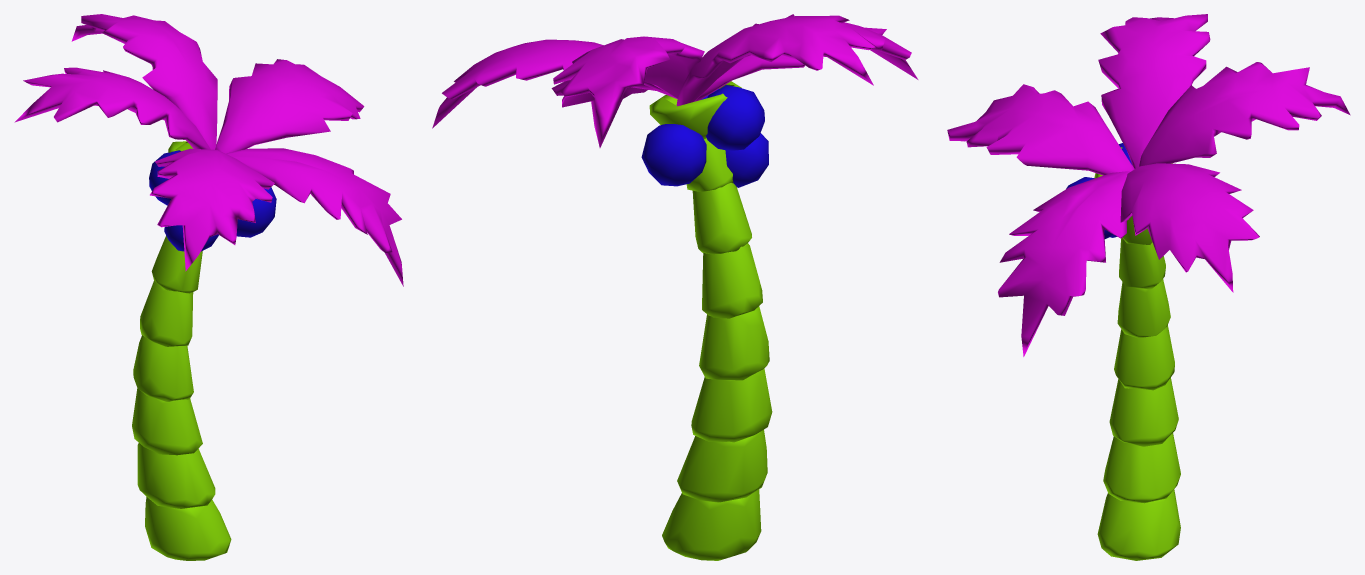
The model's file is F_Palm_01 lp.fbx.
The picture shows the model from 3 angles, left to right: view 1: azimuth 30°, elevation 25°; view 2: azimuth 150°, elevation 25°; view 3: azimuth 270°, elevation 25°; orthographic projection. The views are drawn at different scales.
Parts seen in each view (by area): view 1: F_Palm_01 hp1; view 2: F_Palm_01 hp1; view 3: F_Palm_01 hp1.
Part boxes in pixels (left/top/right/bottom): F_Palm_01 hp1: left=14, top=14, right=403, bottom=560; F_Palm_01 hp1: left=432, top=14, right=918, bottom=560; F_Palm_01 hp1: left=947, top=14, right=1350, bottom=560.
Bounding box in the file's own units: 203 × 262 × 200.
